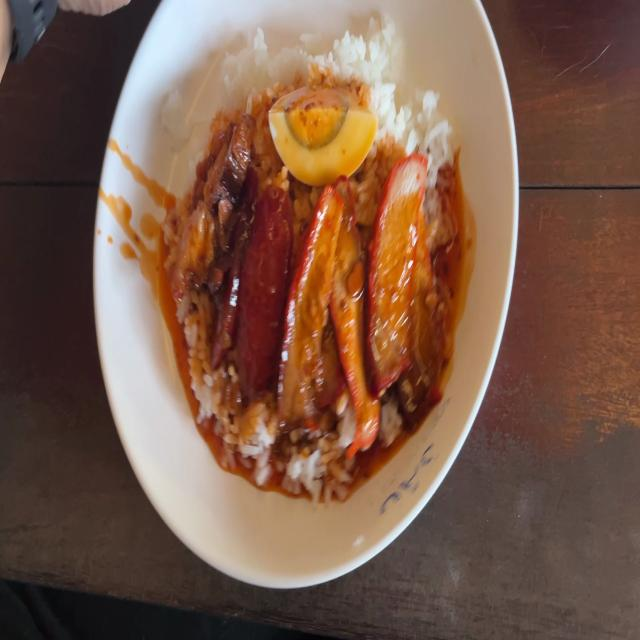01boiled_egg: (272, 83, 377, 179)
01chainese_sausage: (222, 185, 288, 388)
01crispy_pork: (164, 119, 252, 275)
01red_pork: (289, 194, 384, 433), (377, 162, 430, 382)
01red_pork_and_crispy_pork: (184, 49, 466, 468)
01rice: (233, 30, 412, 90), (380, 87, 457, 154), (181, 293, 214, 418)
